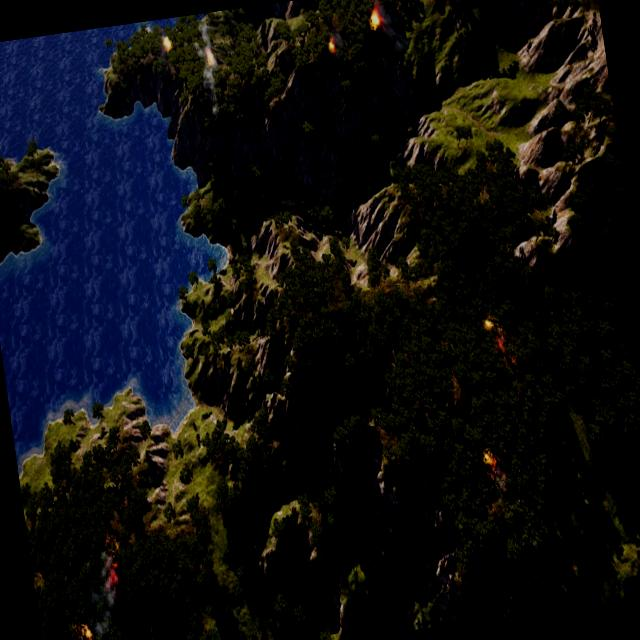fire: (482, 314, 508, 352), (480, 448, 501, 478), (73, 620, 97, 640), (105, 563, 120, 586), (369, 8, 383, 32), (484, 316, 499, 334), (162, 34, 174, 53), (206, 47, 216, 66), (327, 40, 335, 54)
smoke: (62, 539, 188, 640), (73, 550, 132, 640), (370, 0, 417, 60), (195, 20, 222, 98), (328, 26, 344, 52)
